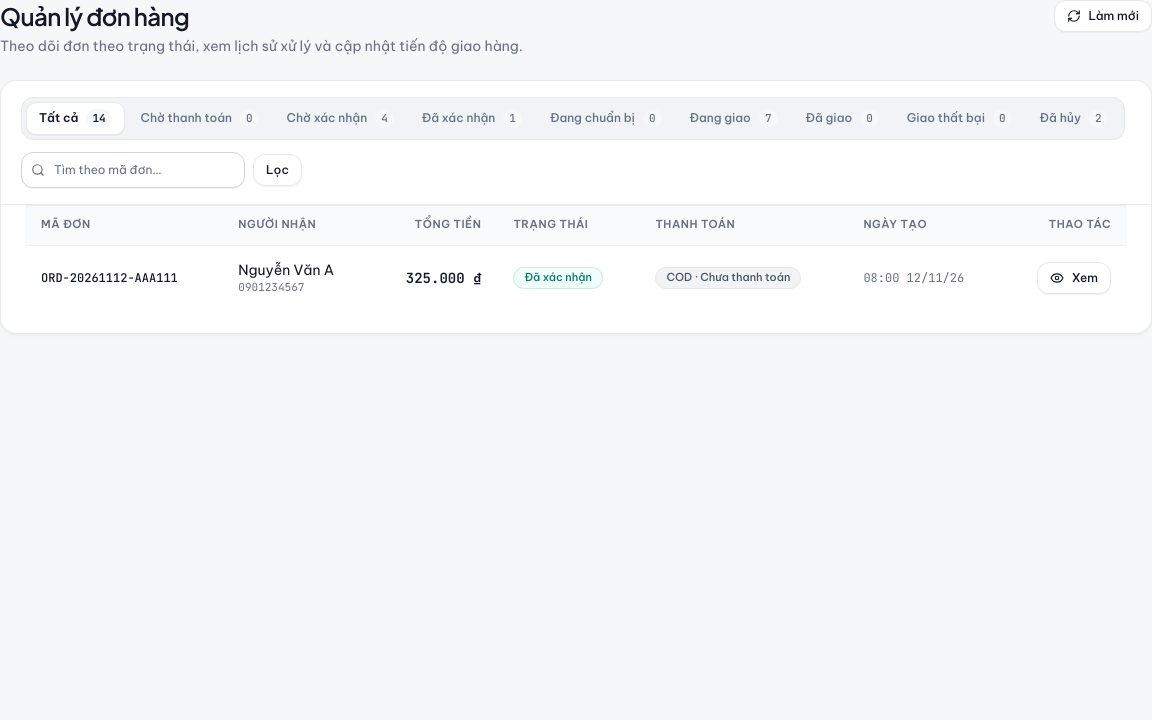
Test: OrdersPage › opens the order detail with its status timeline
Click the button with aria-label "xem đơn ORD-20261112-AAA111". click: (1074, 278)
box: [1037, 262, 1111, 294]
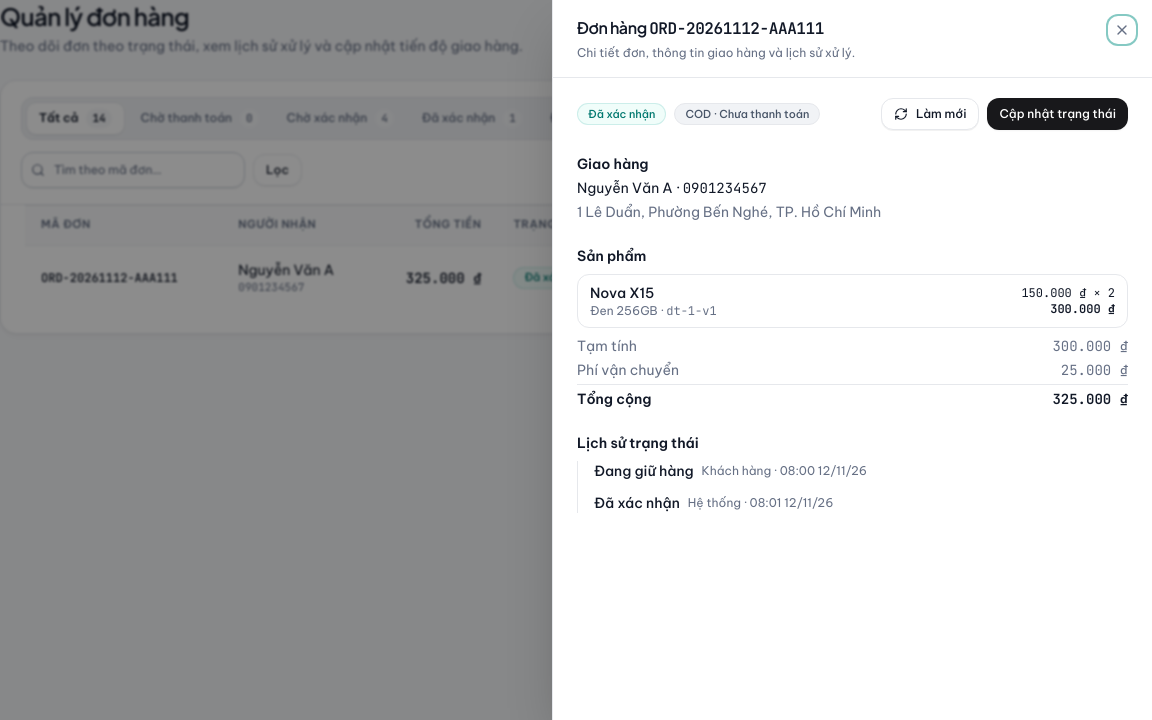
Expected: the text "Hệ thống · 08:01 12/11/26" is shown, [688, 495, 833, 511]
Expected: the text "Đã xác nhận" next to "Hệ thống" is shown, [594, 494, 680, 512]
Expected: the button "Cập nhật trạng thái" is shown, [988, 98, 1128, 130]
